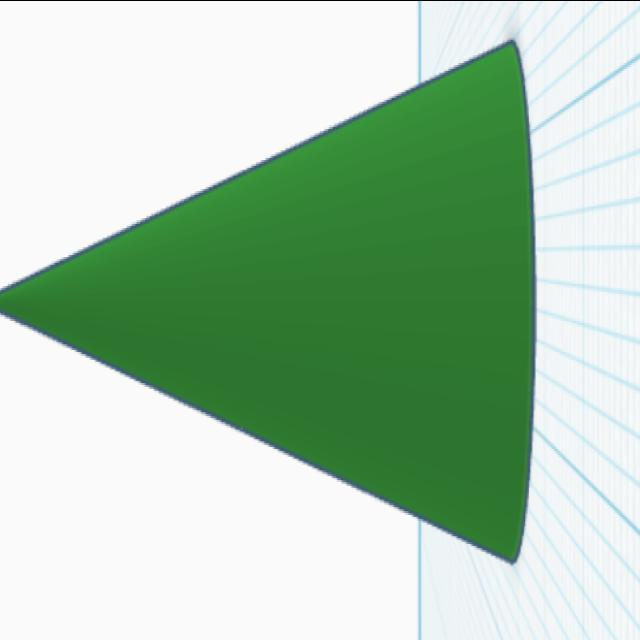cone: (0, 31, 539, 572)
